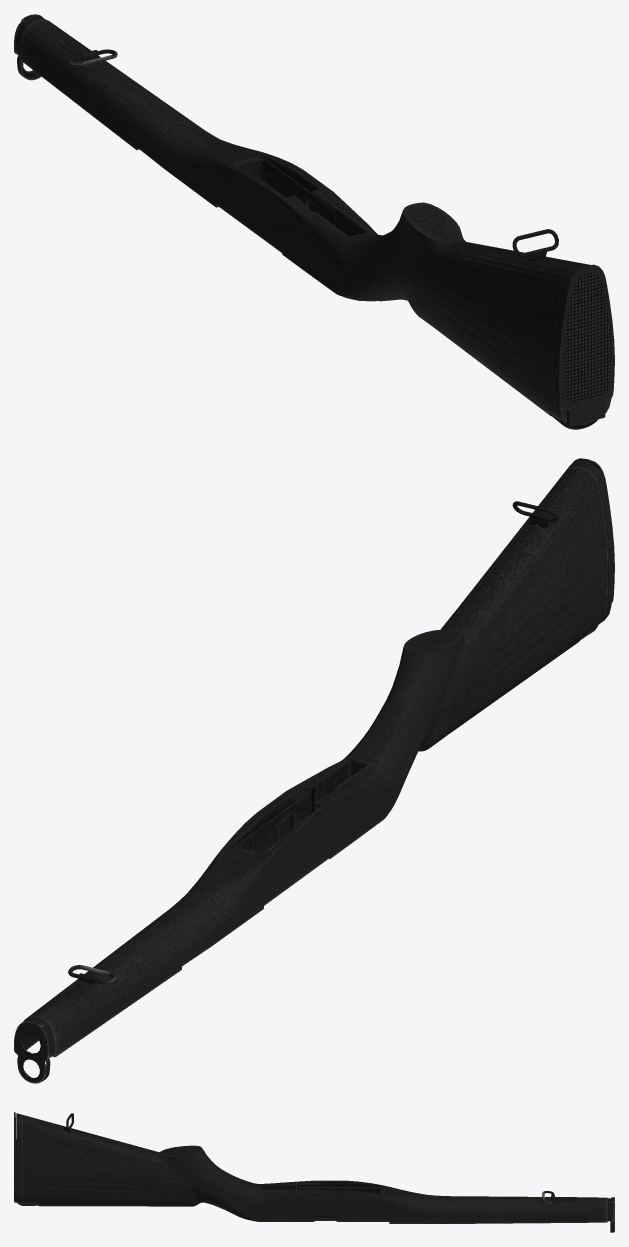
The picture shows the model from 3 angles, top to bottom: view 1: azimuth 30°, elevation 25°; view 2: azimuth 150°, elevation 25°; view 3: azimuth 270°, elevation 25°; orthographic projection. The views are drawn at different scales.
Visible parts, largest first — view 1: TW_5aaf8e43e5b5b00015693246_PZ_Import; view 2: TW_5aaf8e43e5b5b00015693246_PZ_Import; view 3: TW_5aaf8e43e5b5b00015693246_PZ_Import.
Boxes of the visible parts, box(x1,y1,x2,y2) form: TW_5aaf8e43e5b5b00015693246_PZ_Import: box(14, 14, 614, 429); TW_5aaf8e43e5b5b00015693246_PZ_Import: box(14, 458, 614, 1083); TW_5aaf8e43e5b5b00015693246_PZ_Import: box(14, 1112, 614, 1232).
Size of the model in its own units: 0.0307 by 0.5297 by 0.1143.
Materials: 1 (1 with a texture image).
